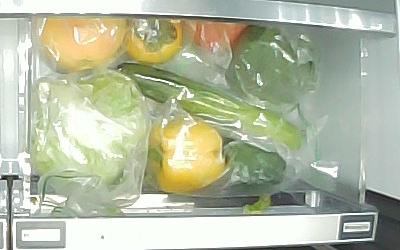apple_vinyl: (187, 19, 245, 50)
broccoli_vinyl: (232, 26, 321, 108)
cucumber_vinyl: (116, 62, 303, 152)
grapefruit_vinyl: (36, 17, 124, 72)
lettuce_vinyl: (32, 69, 146, 191)
paprika_vinyl: (146, 117, 225, 194), (225, 139, 289, 187)
persimmon_vinyl: (122, 17, 186, 64)
